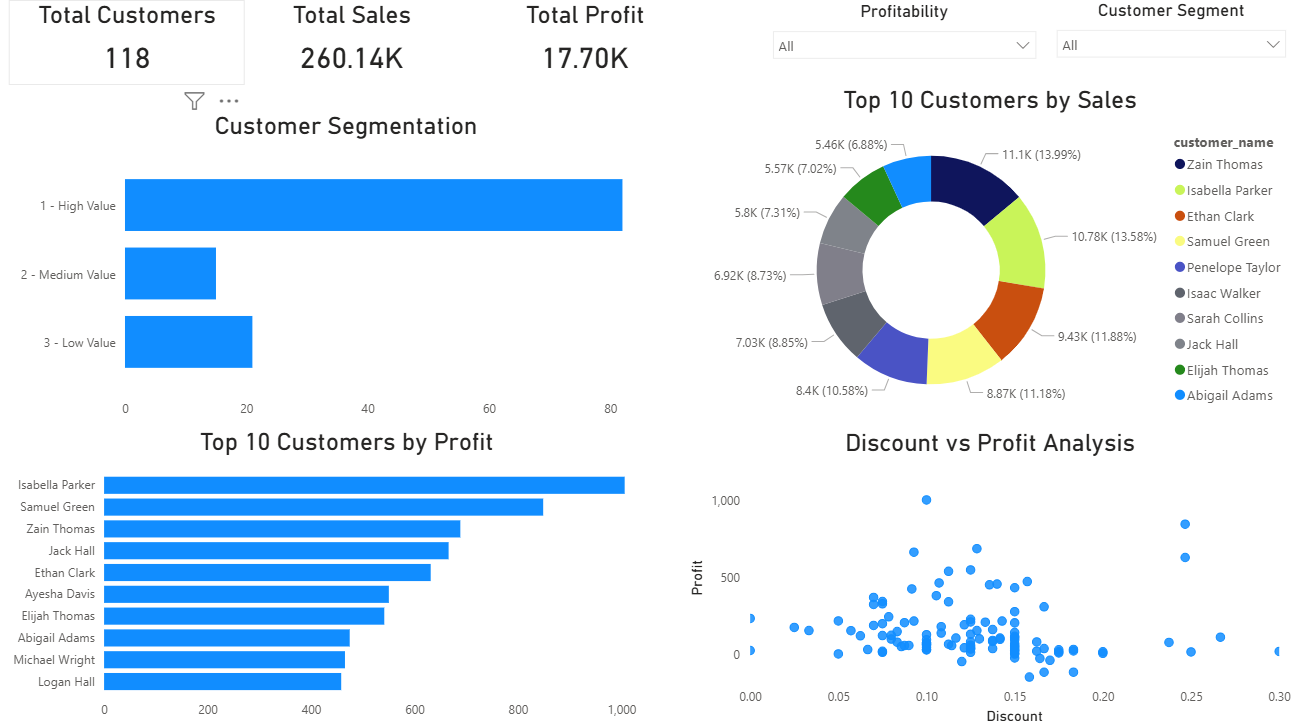

Layout of this report page (visuals, bound fields, positions):
{"tool":"powerbi","page":{"name":"Page 1","canvas":[1280,720],"ordinal":0},"visuals":[{"type":"card","title":"Total Customers","fields":{"Values":["CountNonNull(public customer_analysis.total_quantity)"]},"box":[8.8,0,233.8,83.8],"z":0},{"type":"card","title":"Total Sales","fields":{"Values":["Sum(public customer_analysis.total_sales)"]},"box":[242.5,0,211.2,83.8],"z":1000},{"type":"card","title":"Total Profit","fields":{"Values":["Sum(public customer_analysis.total_profit)"]},"box":[461.2,0,232.5,83.8],"z":2000},{"type":"donutChart","title":"Top 10 Customers by Sales","fields":{"Category":["public customer_analysis.customer_name"],"Y":["Sum(public customer_analysis.total_sales)"]},"box":[675,83.8,605,338.8],"z":3000},{"type":"barChart","title":"Top 10 Customers by Profit","fields":{"Category":["public customer_analysis.customer_name"],"Y":["Sum(public customer_analysis.total_profit)"]},"box":[0,422.5,685,297.5],"z":4000},{"type":"scatterChart","title":"Discount vs Profit Analysis","fields":{"X":["Sum(public customer_analysis.avg_discount)"],"Y":["Sum(public customer_analysis.total_profit)"],"Category":["public customer_analysis.customer_name"]},"box":[675,423.1,605.3,297.1],"z":5000},{"type":"slicer","title":"Profitability","fields":{"Values":["public customer_analysis.profitability"]},"box":[753.3,1.2,280,72.1],"z":6000},{"type":"slicer","title":"Customer Segment","fields":{"Values":["public customer_analysis.customer_segment_display"]},"box":[1033.3,0,247,83.2],"z":7000},{"type":"barChart","title":"Customer Segmentation","fields":{"Category":["public customer_analysis.customer_segment_display"],"Y":["CountNonNull(public customer_analysis.customer_id)"]},"box":[8.8,110,666.2,312.5],"z":7001}]}

Visuals, with their boxes in screenshot pixels (x1, y1, x2, y2), scaled from the page's 1280x720 canvas onto the 1295x727 screenshot:
"Total Customers" card: (9,0,245,85)
"Total Sales" card: (245,0,459,85)
"Total Profit" card: (467,0,702,85)
"Top 10 Customers by Sales" donutChart: (683,85,1294,427)
"Top 10 Customers by Profit" barChart: (0,427,693,726)
"Discount vs Profit Analysis" scatterChart: (683,427,1294,726)
"Profitability" slicer: (762,1,1045,74)
"Customer Segment" slicer: (1045,0,1294,84)
"Customer Segmentation" barChart: (9,111,683,427)
